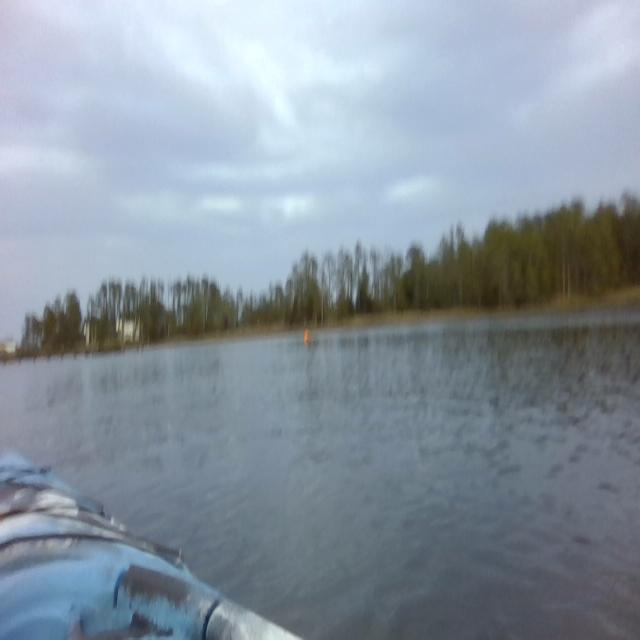Buoy: (302, 327, 311, 346)
